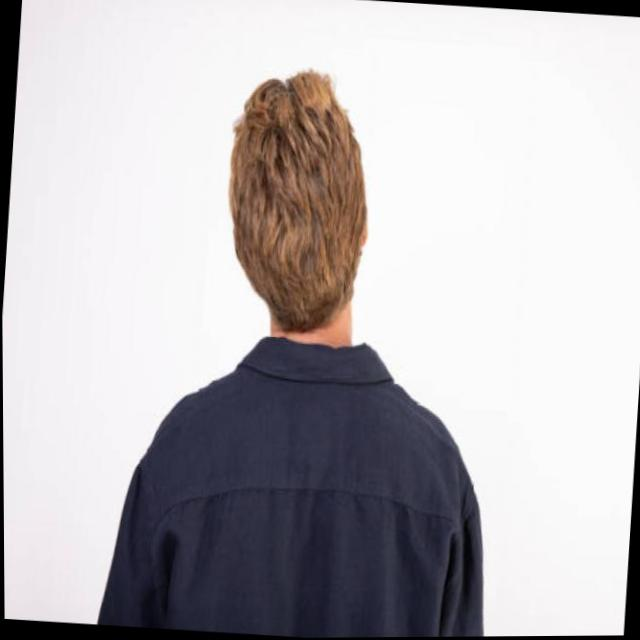no helmet: (215, 62, 381, 339)
